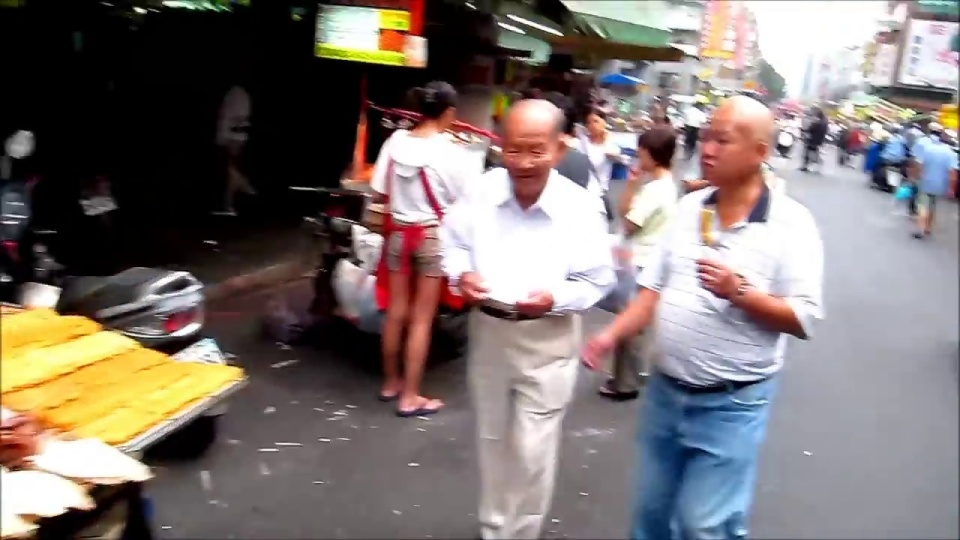person_head: (698, 92, 779, 190), (497, 97, 564, 187), (413, 79, 459, 130), (635, 126, 677, 174), (548, 91, 575, 138), (585, 105, 607, 137), (228, 67, 244, 85), (927, 122, 942, 141), (786, 105, 799, 122), (890, 117, 899, 136), (879, 119, 890, 133), (690, 96, 700, 111), (780, 107, 790, 121), (912, 118, 922, 132)
person_vbox: (581, 88, 826, 540), (432, 96, 618, 540), (363, 79, 484, 421), (597, 124, 679, 403), (569, 96, 630, 232), (212, 68, 257, 219), (907, 118, 960, 238), (545, 93, 589, 192), (865, 119, 908, 193), (901, 117, 929, 214), (870, 123, 909, 189), (799, 104, 830, 176), (679, 96, 707, 164), (802, 106, 829, 171), (777, 109, 799, 139)
